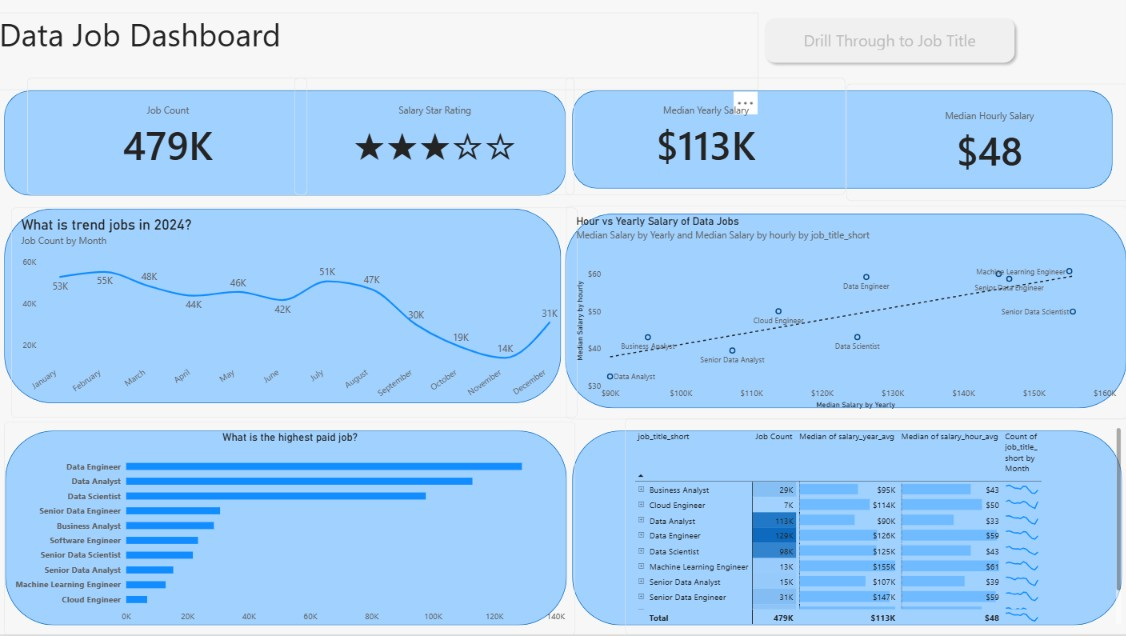

What the dashboard file says about the page in this screenshot:
{"tool":"powerbi","page":{"name":"Data Jobs Dashboard","canvas":[1920,1080],"ordinal":9},"visuals":[{"type":"shape","box":[10,734,952,330],"z":0},{"type":"shape","box":[8,158,952,178],"z":1000},{"type":"shape","box":[960,366,952,330],"z":2000},{"type":"shape","box":[972,734,932,330],"z":3000},{"type":"shape","box":[972,158,916,166],"z":4000},{"type":"shape","box":[8,358,944,330],"z":5000},{"type":"textbox","box":[0,25.4,1287.2,132.1],"z":6000},{"type":"cardVisual","fields":{"Data":["Median(job_postings_flat.salary_year_avg)"]},"box":[960,136,475.9,199.9],"z":7000},{"type":"cardVisual","fields":{"Data":["Median(job_postings_flat.salary_hour_avg)"]},"box":[1436,146,484.4,199.9],"z":8000},{"type":"cardVisual","fields":{"Data":["job_postings_flat.Salary Star Rating"]},"box":[500,136,475.9,199.9],"z":9000},{"type":"cardVisual","fields":{"Data":["CountNonNull(job_postings_flat.job_title)"]},"box":[48,136,475.9,199.9],"z":10000},{"type":"lineChart","title":"What is trend jobs in 2024?","fields":{"Category":["job_postings_flat.job_posted_date.Variation.Date Hierarchy.Year","job_postings_flat.job_posted_date.Variation.Date Hierarchy.Quarter","job_postings_flat.job_posted_date.Variation.Date Hierarchy.Month","job_postings_flat.job_posted_date.Variation.Date Hierarchy.Day"],"Y":["CountNonNull(job_postings_flat.job_title_short)"]},"box":[20.3,355.7,960,356],"z":11000},{"type":"scatterChart","title":"Hour vs Yearly Salary of Data Jobs","fields":{"Series":["job_postings_flat.job_title_short"],"X":["Median(job_postings_flat.salary_year_avg)"],"Y":["Median(job_postings_flat.salary_hour_avg)"]},"box":[962,352,950,362],"z":12000},{"type":"barChart","title":"What is the highest paid job?","fields":{"Category":["job_postings_flat.job_title_short"],"Y":["CountNonNull(job_postings_flat.job_title)"]},"box":[8,718,968,362],"z":13000},{"type":"pivotTable","fields":{"Rows":["job_postings_flat.job_title_short","job_postings_flat.job_posted_date.Variation.Date Hierarchy.Quarter"],"Values":["CountNonNull(job_postings_flat.job_title_short)","Median(job_postings_flat.salary_year_avg)","Median(job_postings_flat.salary_hour_avg)","SparklineData(CountNonNull(job_postings_flat.job_title_short)_[job_postings_flat.job_posted_date.Variation.Date Hierarch"]},"box":[1062,714,858,366],"z":14000},{"type":"actionButton","title":"Drill Through to Job Title","box":[1288,26,442,94],"z":15000}]}

Visuals, with their boxes in screenshot pixels (x1, y1, x2, y2), scaled from the page's 1920x1080 canvas onto the 1126x636 screenshot:
shape: <box>6,432,564,627</box>
shape: <box>5,93,563,198</box>
shape: <box>563,216,1121,410</box>
shape: <box>570,432,1117,627</box>
shape: <box>570,93,1107,191</box>
shape: <box>5,211,558,405</box>
textbox: <box>0,15,755,93</box>
cardVisual - Median(job_postings_flat.salary_year_avg): <box>563,80,842,198</box>
cardVisual - Median(job_postings_flat.salary_hour_avg): <box>842,86,1125,204</box>
cardVisual - job_postings_flat.Salary Star Rating: <box>293,80,572,198</box>
cardVisual - CountNonNull(job_postings_flat.job_title): <box>28,80,307,198</box>
"What is trend jobs in 2024?" lineChart: <box>12,209,575,419</box>
"Hour vs Yearly Salary of Data Jobs" scatterChart: <box>564,207,1121,420</box>
"What is the highest paid job?" barChart: <box>5,423,572,635</box>
pivotTable - job_postings_flat.job_title_short x job_postings_flat.job_posted_date.Variation.Date Hierarchy.Quarter: <box>623,420,1125,635</box>
"Drill Through to Job Title" actionButton: <box>755,15,1015,71</box>
